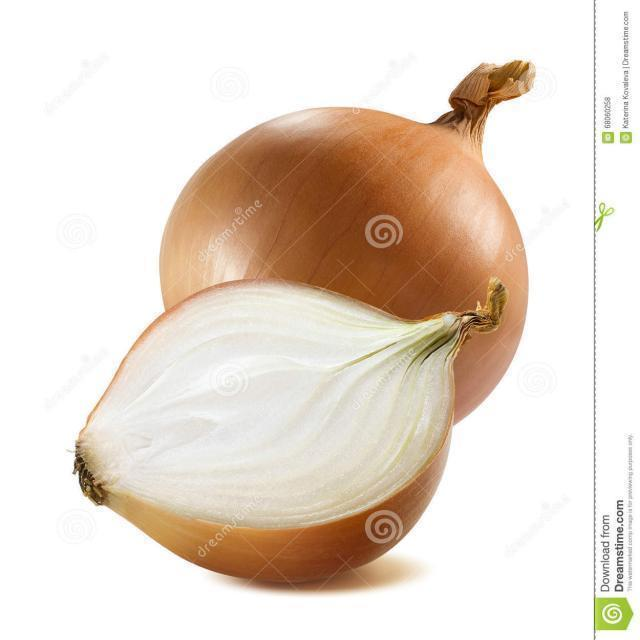Onion: (158, 58, 535, 427), (67, 277, 509, 585)
